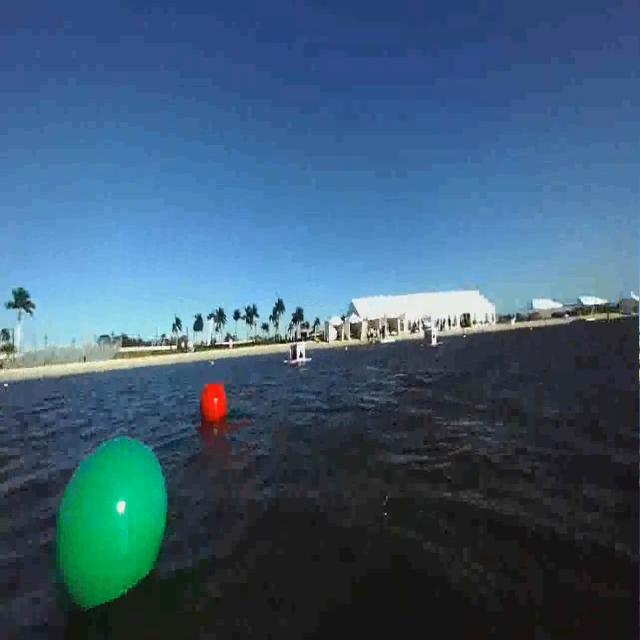green-buoy: (48, 426, 180, 618)
red-buoy: (200, 383, 230, 428)
